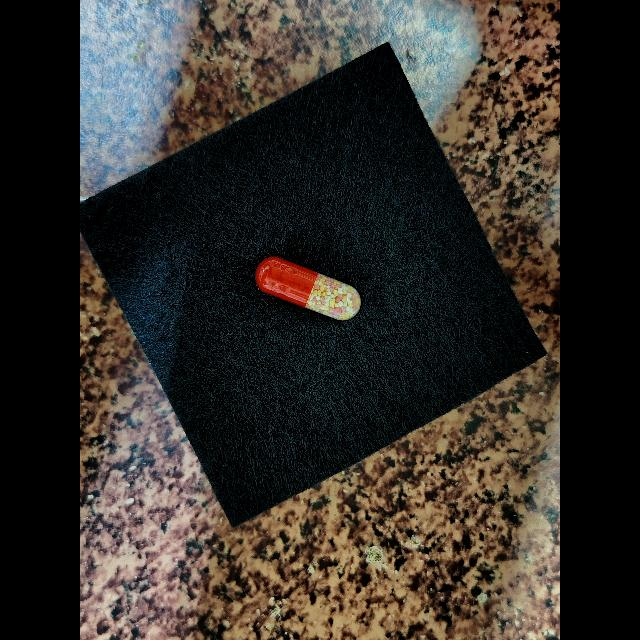Intact Capsule: (255, 257, 361, 320)
